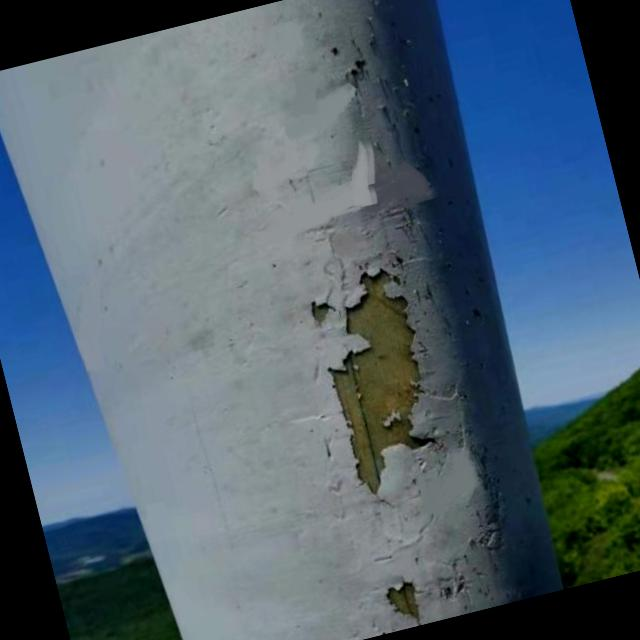surface_peeling: (304, 255, 454, 504), (380, 578, 430, 629)
